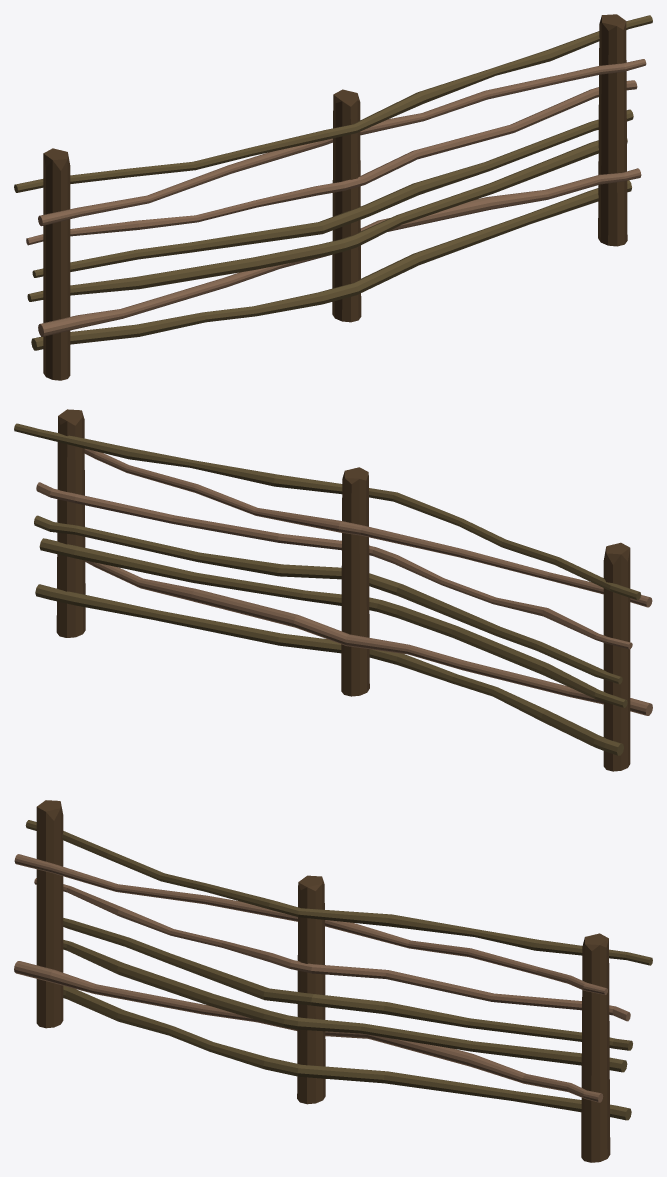
Rendered from Fence Wooden_1  Asia.fbx.
The picture shows the model from 3 angles, top to bottom: view 1: azimuth 30°, elevation 25°; view 2: azimuth 150°, elevation 25°; view 3: azimuth 330°, elevation 25°; orthographic projection.
Visible parts, largest first — view 1: Fence Wooden_1; view 2: Fence Wooden_1; view 3: Fence Wooden_1.
Boxes of the visible parts, <box> form: Fence Wooden_1: <box>14,14,652,380</box>; Fence Wooden_1: <box>14,409,652,771</box>; Fence Wooden_1: <box>14,800,652,1162</box>.
Size of the model in its own units: 2.96 by 0.9825 by 0.3128.
